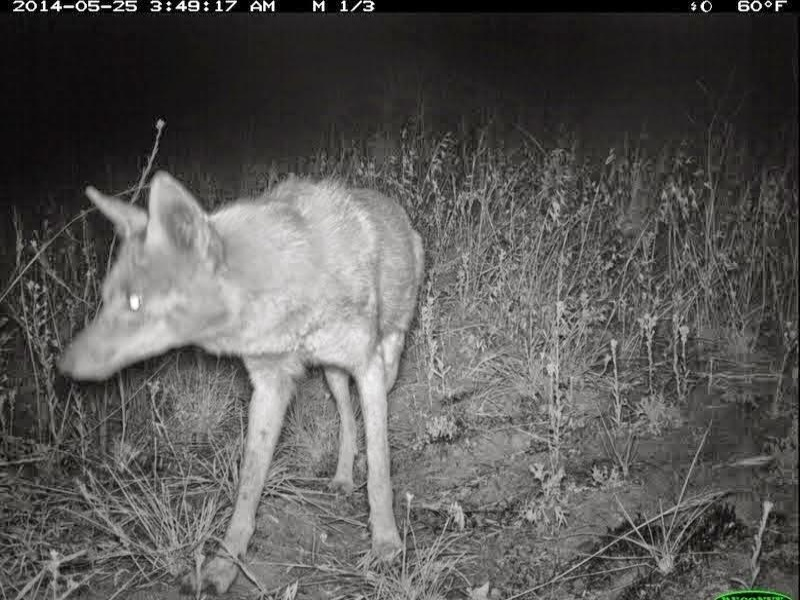coyote: (53, 166, 429, 587)
